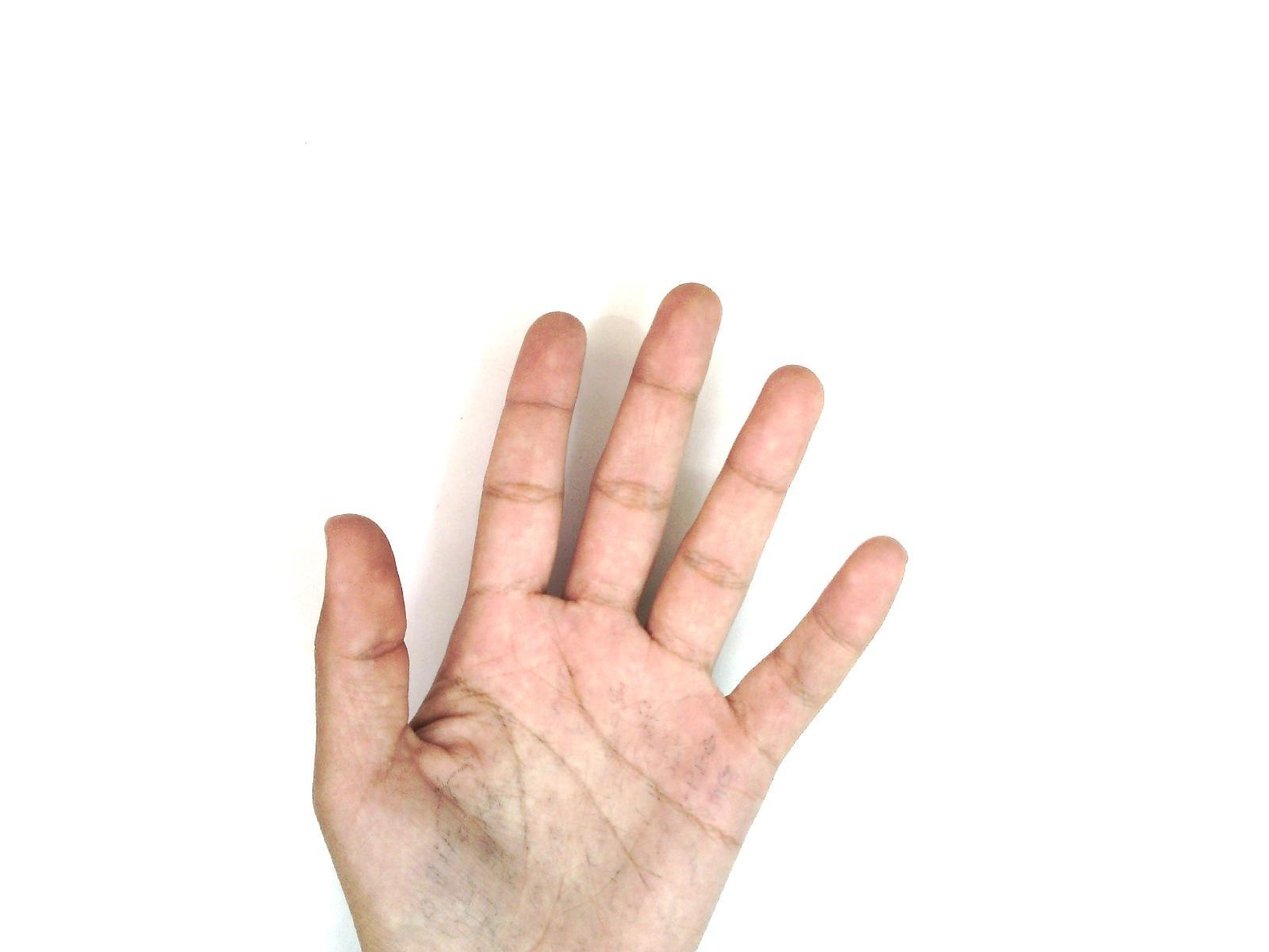open_palm: (309, 282, 911, 952)
